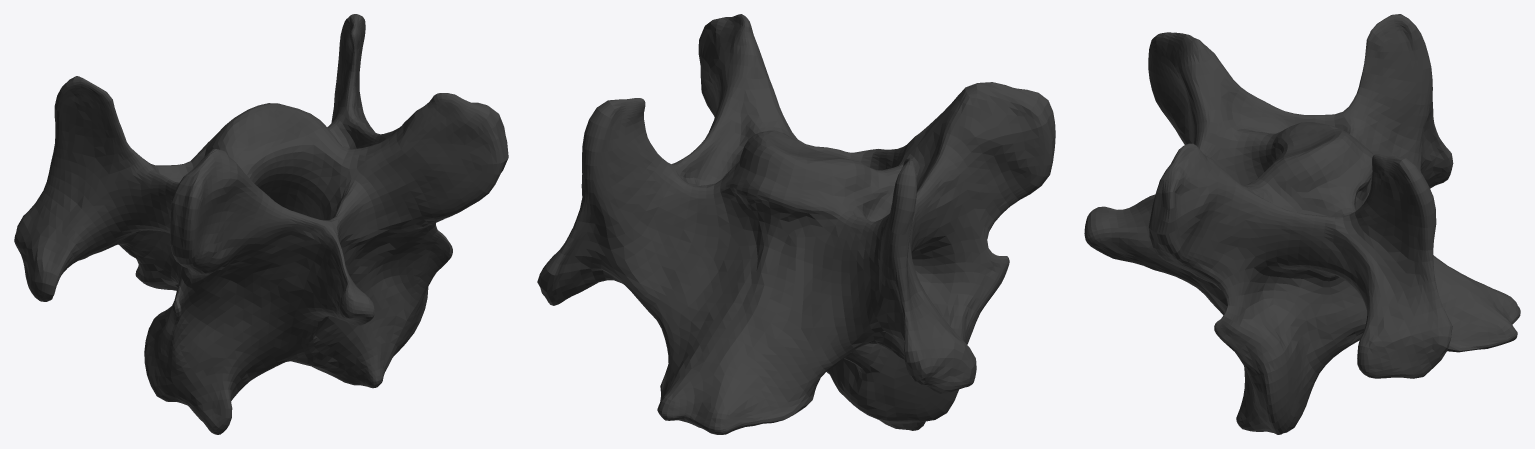
The picture shows the model from 3 angles, left to right: view 1: azimuth 30°, elevation 25°; view 2: azimuth 150°, elevation 25°; view 3: azimuth 270°, elevation 25°; orthographic projection. The views are drawn at different scales.
Visible parts, largest first — view 1: c5_low; view 2: c5_low; view 3: c5_low.
Boxes of the visible parts, x1,y1,x2,y2 form: c5_low: (14, 14, 508, 434); c5_low: (537, 14, 1055, 434); c5_low: (1084, 14, 1520, 434).
Bounding box in the file's own units: 51.69 × 40.43 × 49.94.
Materials: 1 (1 with a texture image).
